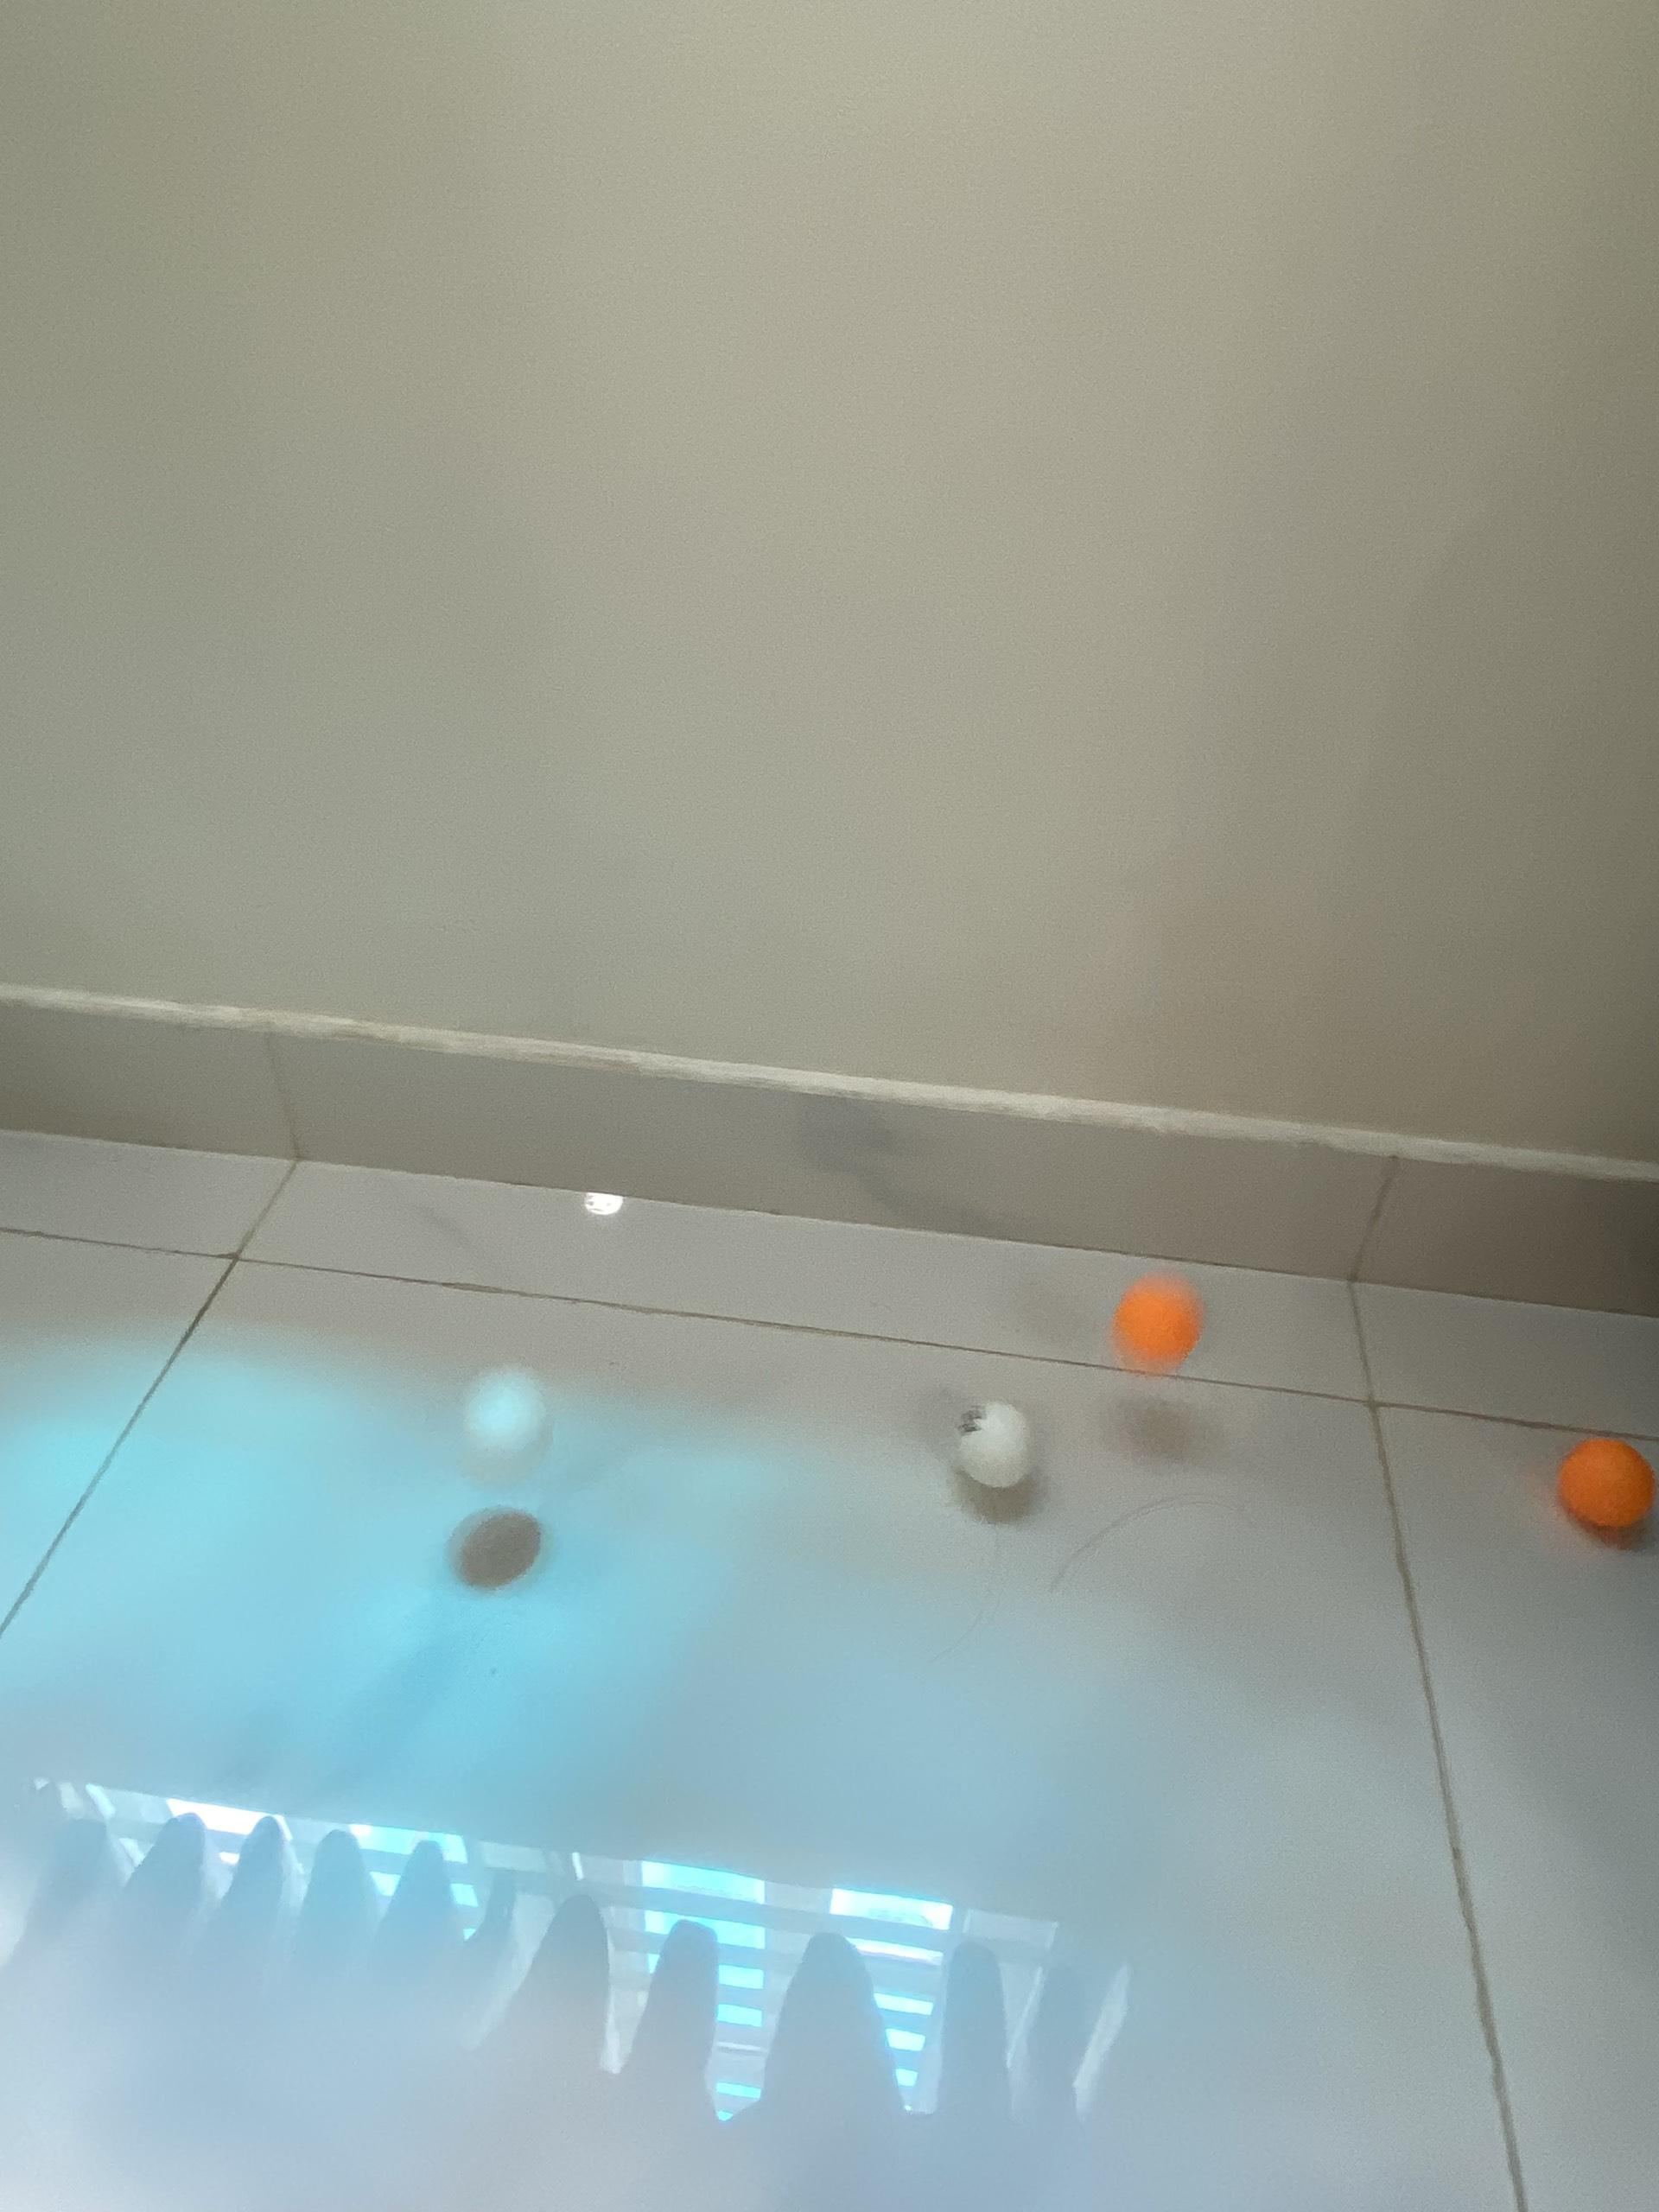oball: (1563, 1432, 1654, 1533), (467, 1374, 552, 1477), (1115, 1270, 1201, 1367), (957, 1406, 1040, 1493)
